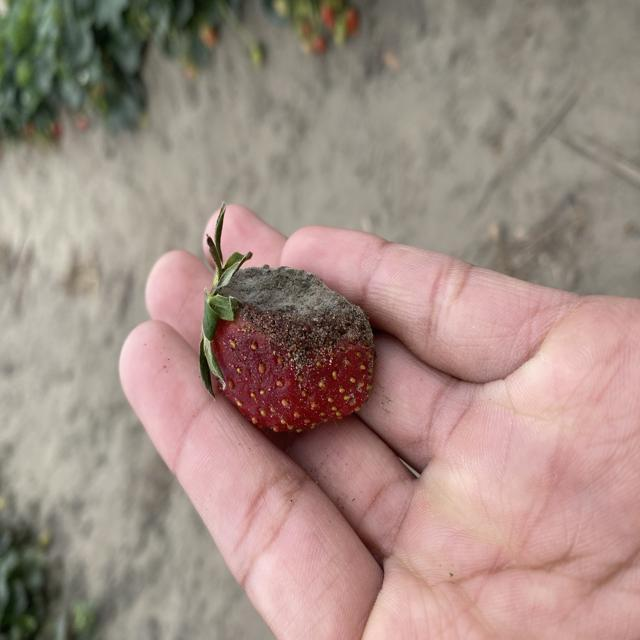Botrytis: (204, 266, 376, 429)
